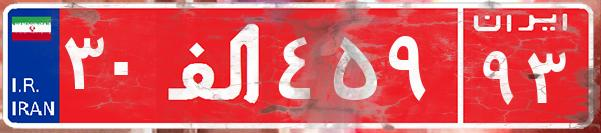0: (110, 28, 158, 105)
3: (57, 26, 110, 107), (525, 38, 570, 115)
4: (273, 28, 330, 110)
5: (330, 28, 385, 110)
9: (385, 28, 445, 110), (475, 38, 525, 113)
الف: (158, 15, 273, 115)
